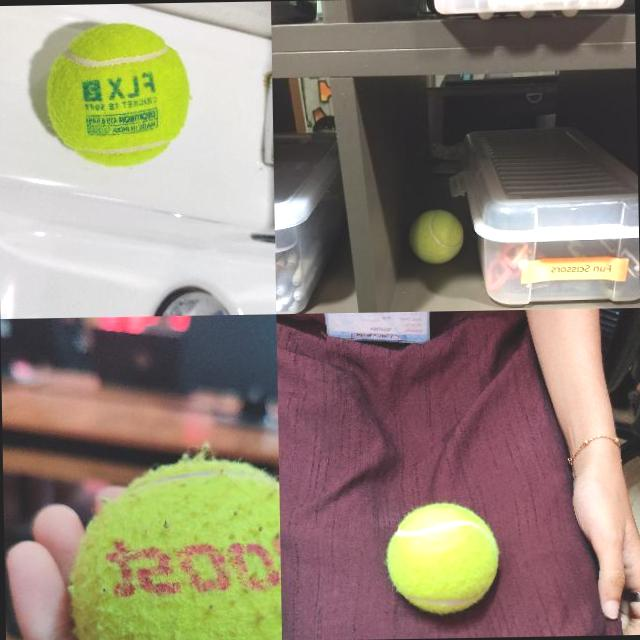Tennis Ball: (68, 456, 281, 640), (45, 22, 193, 168), (387, 503, 499, 613), (407, 208, 464, 264)
